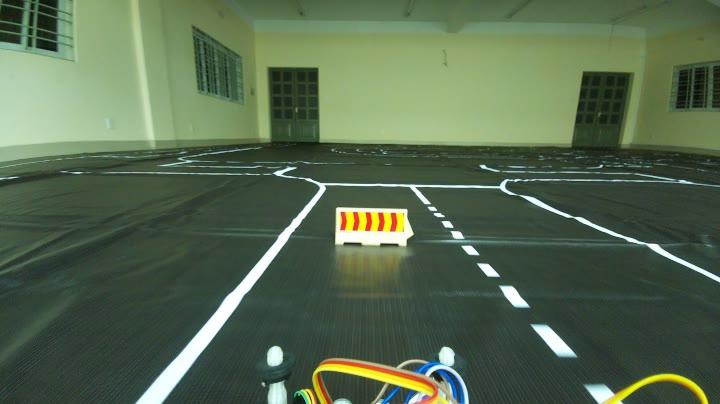roadblock: (329, 197, 422, 265)
